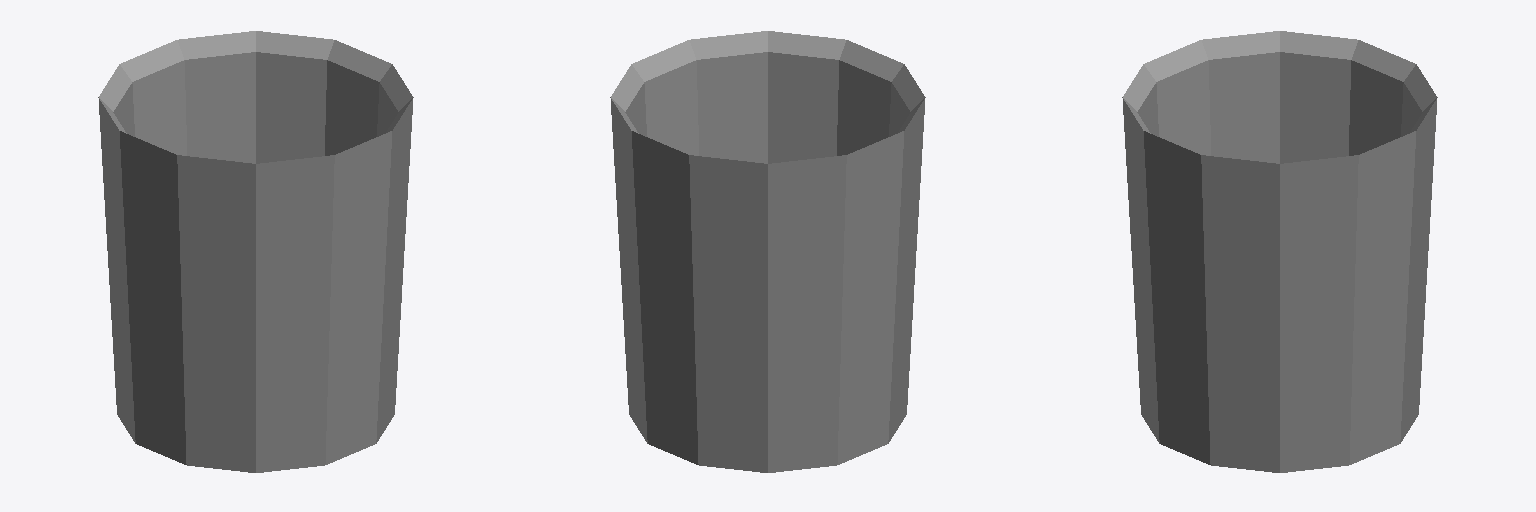
File: trashcan.obj
The picture shows the model from 3 angles: view 1: azimuth 30°, elevation 25°; view 2: azimuth 150°, elevation 25°; view 3: azimuth 270°, elevation 25°; orthographic projection.
Visible parts, largest first — view 1: Cylinder_Cylinder.003; view 2: Cylinder_Cylinder.003; view 3: Cylinder_Cylinder.003.
Part boxes in pixels (bbox=[...]): Cylinder_Cylinder.003: bbox=[98, 31, 413, 472]; Cylinder_Cylinder.003: bbox=[610, 31, 925, 472]; Cylinder_Cylinder.003: bbox=[1122, 31, 1437, 472].
Size of the model in its own units: 2 by 2.22 by 2.